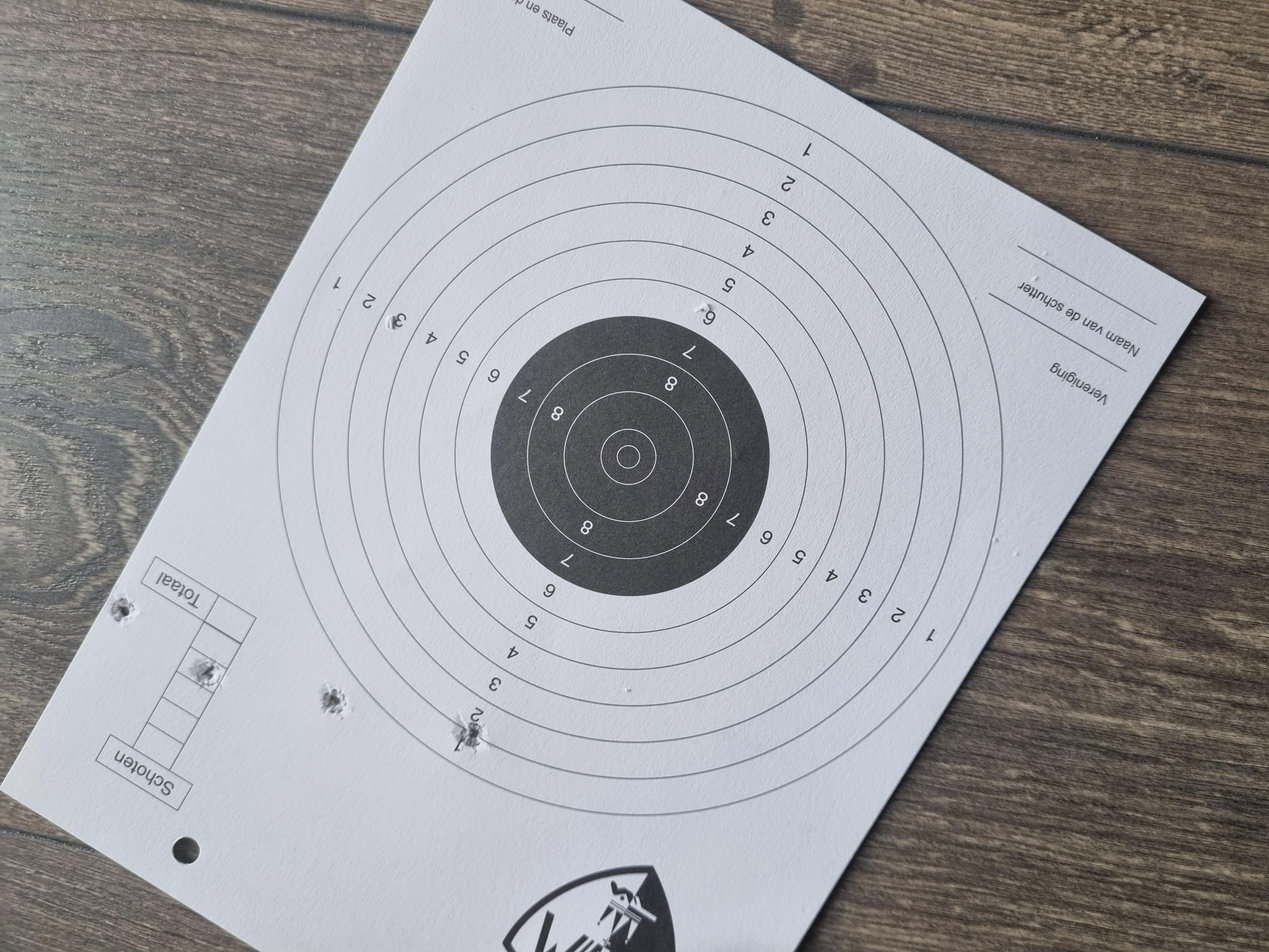hole: (264, 343, 308, 363), (315, 240, 352, 260), (354, 146, 388, 165), (439, 83, 472, 101)
